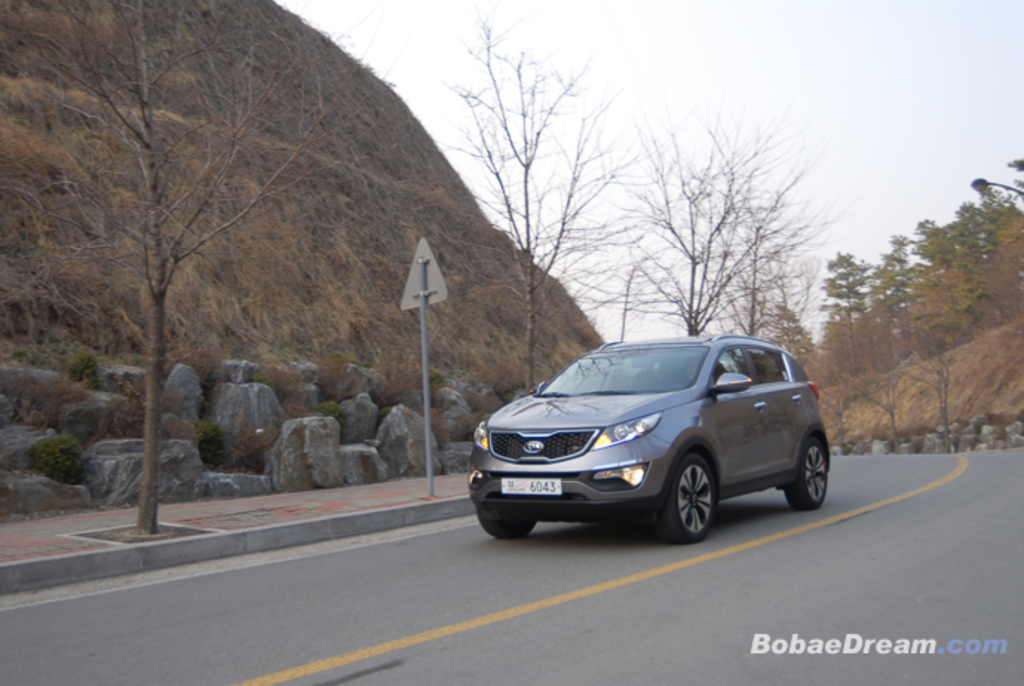Car: (440, 340, 829, 541)
